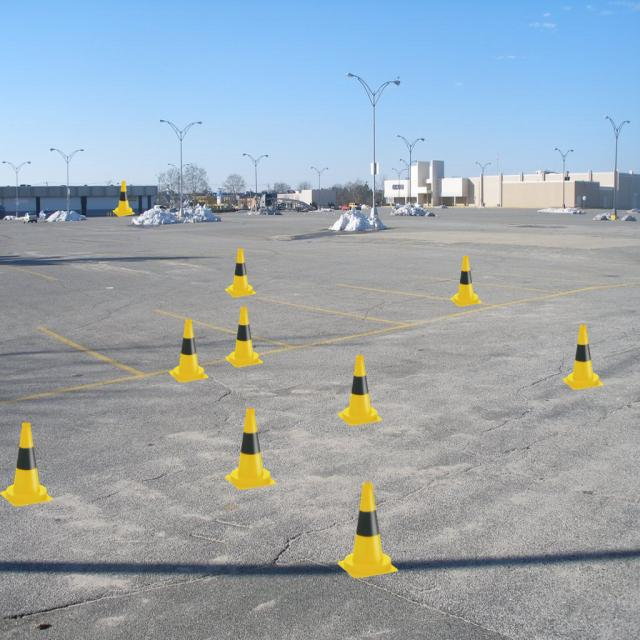yellow_cone: (338, 482, 398, 578), (0, 422, 53, 507), (225, 408, 276, 490), (338, 355, 382, 426), (562, 325, 604, 390), (169, 319, 209, 383), (225, 306, 263, 368), (450, 256, 482, 306), (225, 248, 256, 298), (113, 181, 135, 217)
